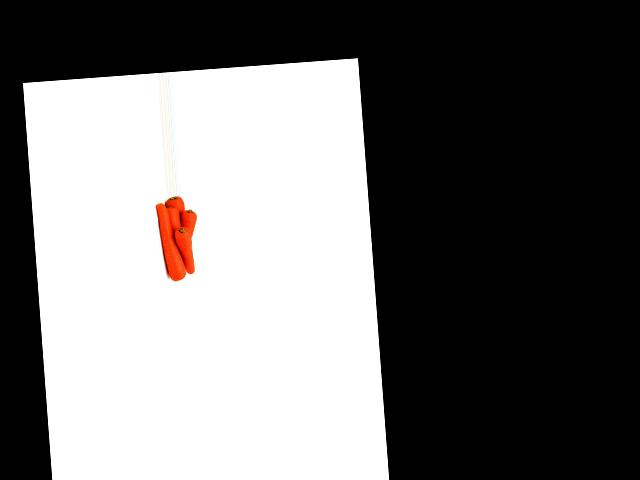carrot: (178, 208, 197, 242)
